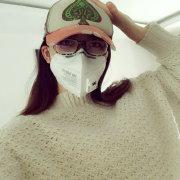OK: (51, 33, 113, 100)
